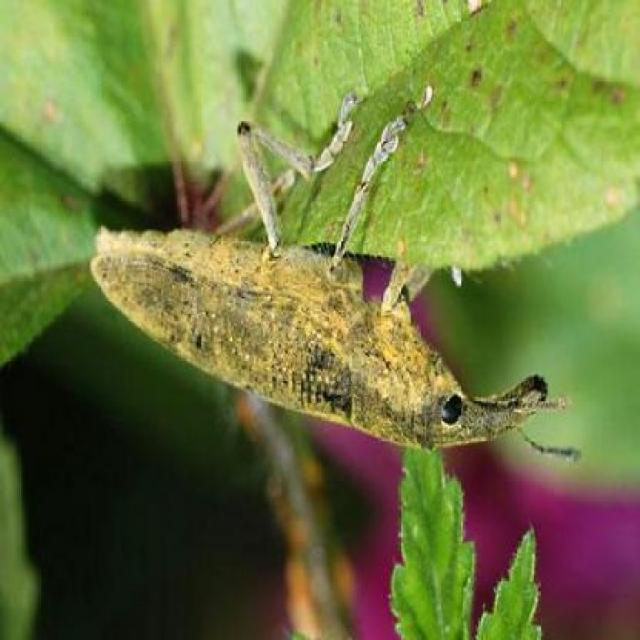rice-bug: (89, 90, 556, 449)
